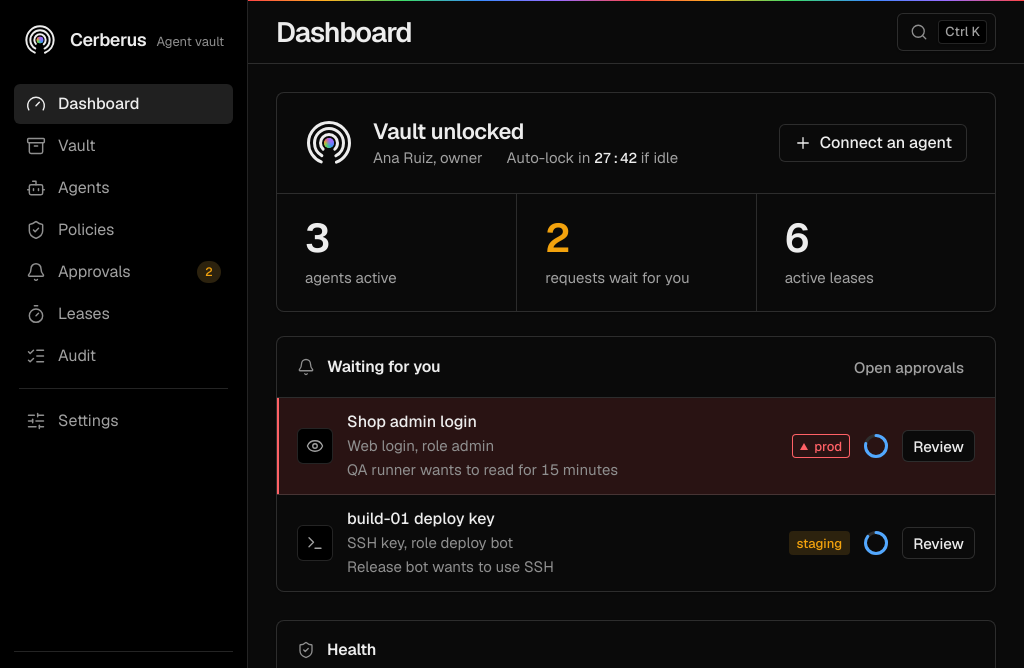
command palette › opens with Ctrl+K, filters, moves with arrows and runs with Enter
Expected: the heading "Dashboard" is shown, [276,14,412,48]
Type keys "{Control>}k{/Control}"
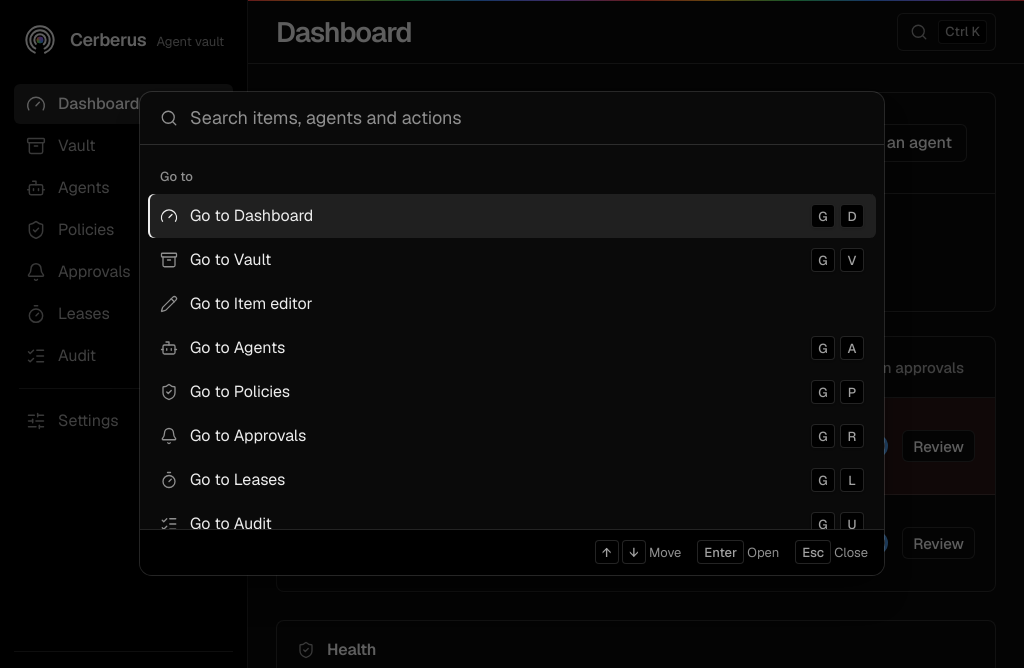
In the dropdown: point(527, 118) [190,106,864,130], type "leases"
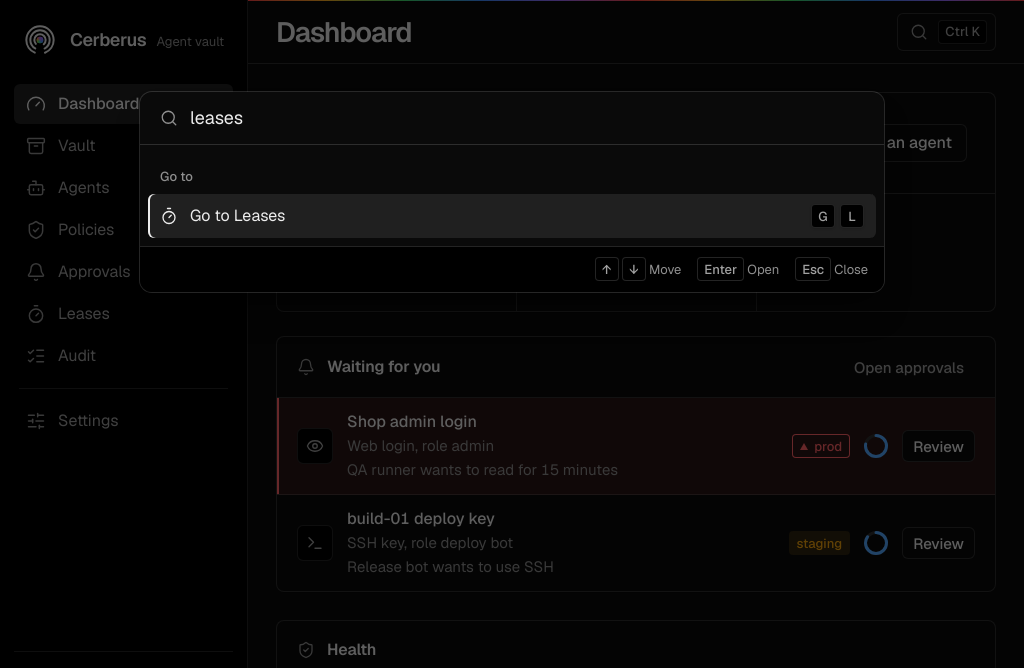
Expected: the number of options is 1, [148,194,876,238]
Press Enter
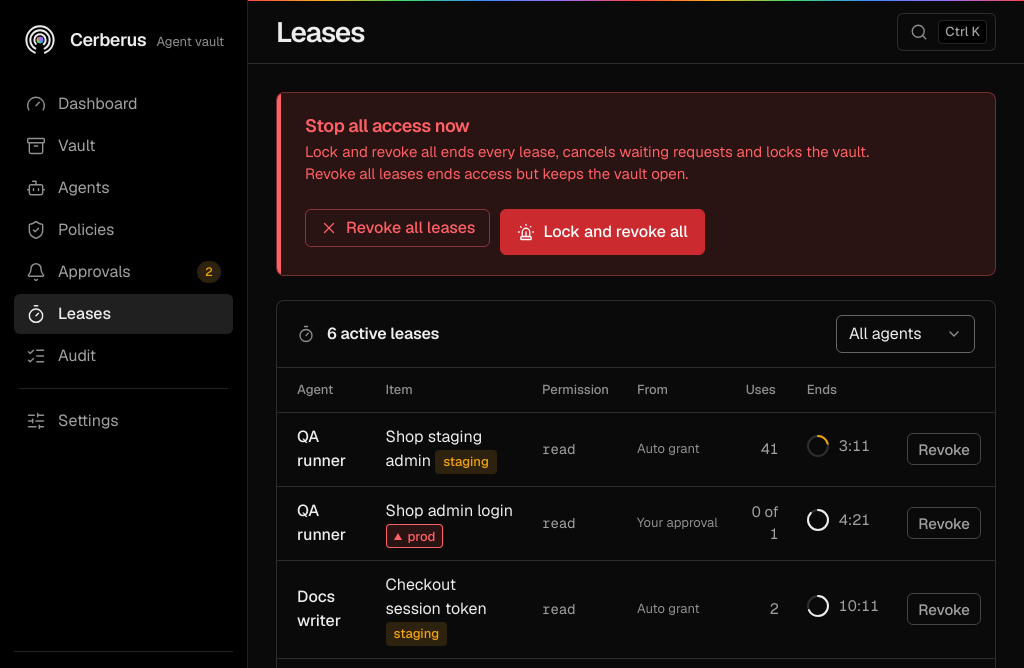
Expected: the text "Open approvals" is gone
